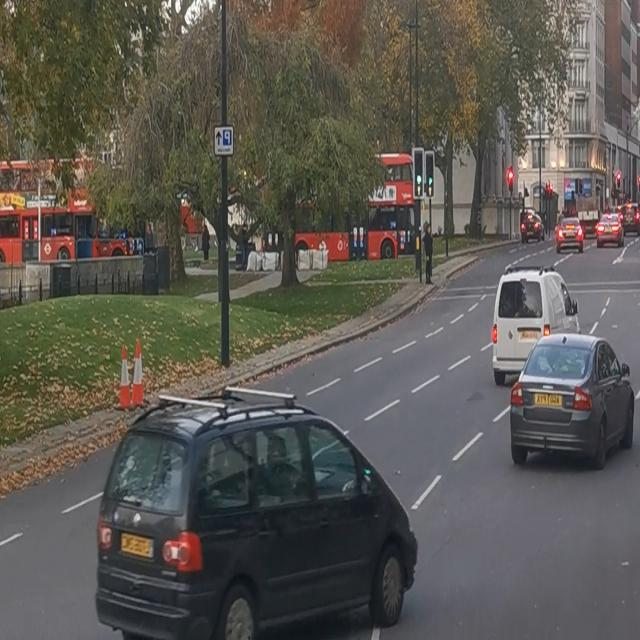Car: (91, 400, 417, 640), (509, 329, 639, 476), (491, 266, 580, 388), (556, 216, 584, 255), (594, 214, 624, 248)
